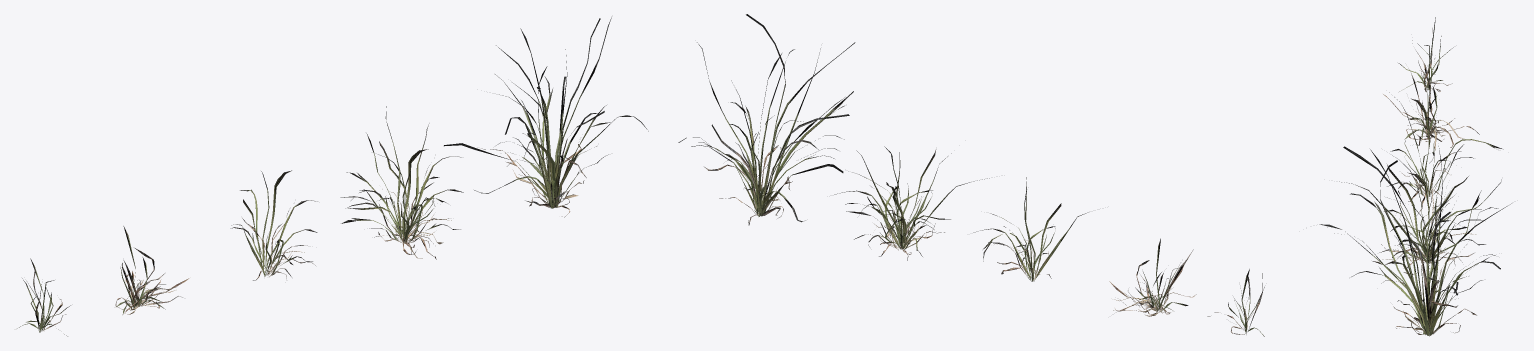
Rendered from herbes_hautes_lod1.glb.
3 renders of one model, left to right at view 1: azimuth 30°, elevation 25°; view 2: azimuth 150°, elevation 25°; view 3: azimuth 270°, elevation 25°, orthographic. The views are drawn at different scales.
Parts seen in each view (by area): view 1: grass_medium_02_a; view 2: grass_medium_02_a; view 3: grass_medium_02_a.
Part boxes in pixels (x1,y1,x2,y2): grass_medium_02_a: (17,17,648,336); grass_medium_02_a: (678,14,1264,336); grass_medium_02_a: (1319,17,1511,336).
Bounding box in the file's own units: 1.3 × 0.4053 × 0.4317.
Materials: 1 (1 with a texture image).
